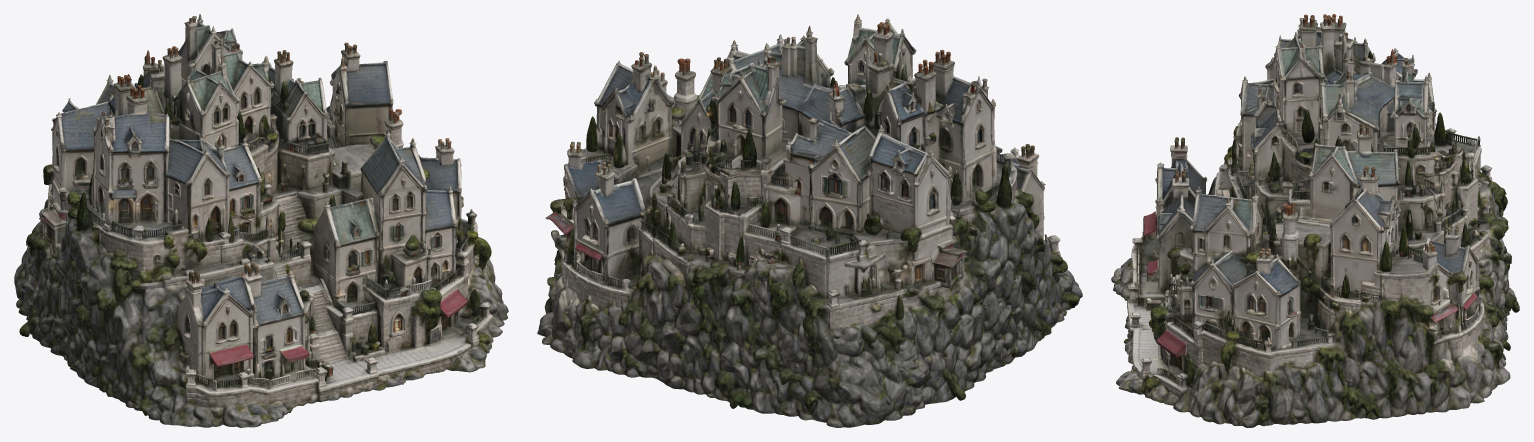
Rendered from hill_village.glb.
3 views of the same model, side by side, from view 1: azimuth 30°, elevation 25°; view 2: azimuth 150°, elevation 25°; view 3: azimuth 270°, elevation 25° (orthographic). The views are drawn at different scales.
Size of the model in its own units: 0.9781 by 0.6722 by 0.8917.
1 material, 1 textured.
